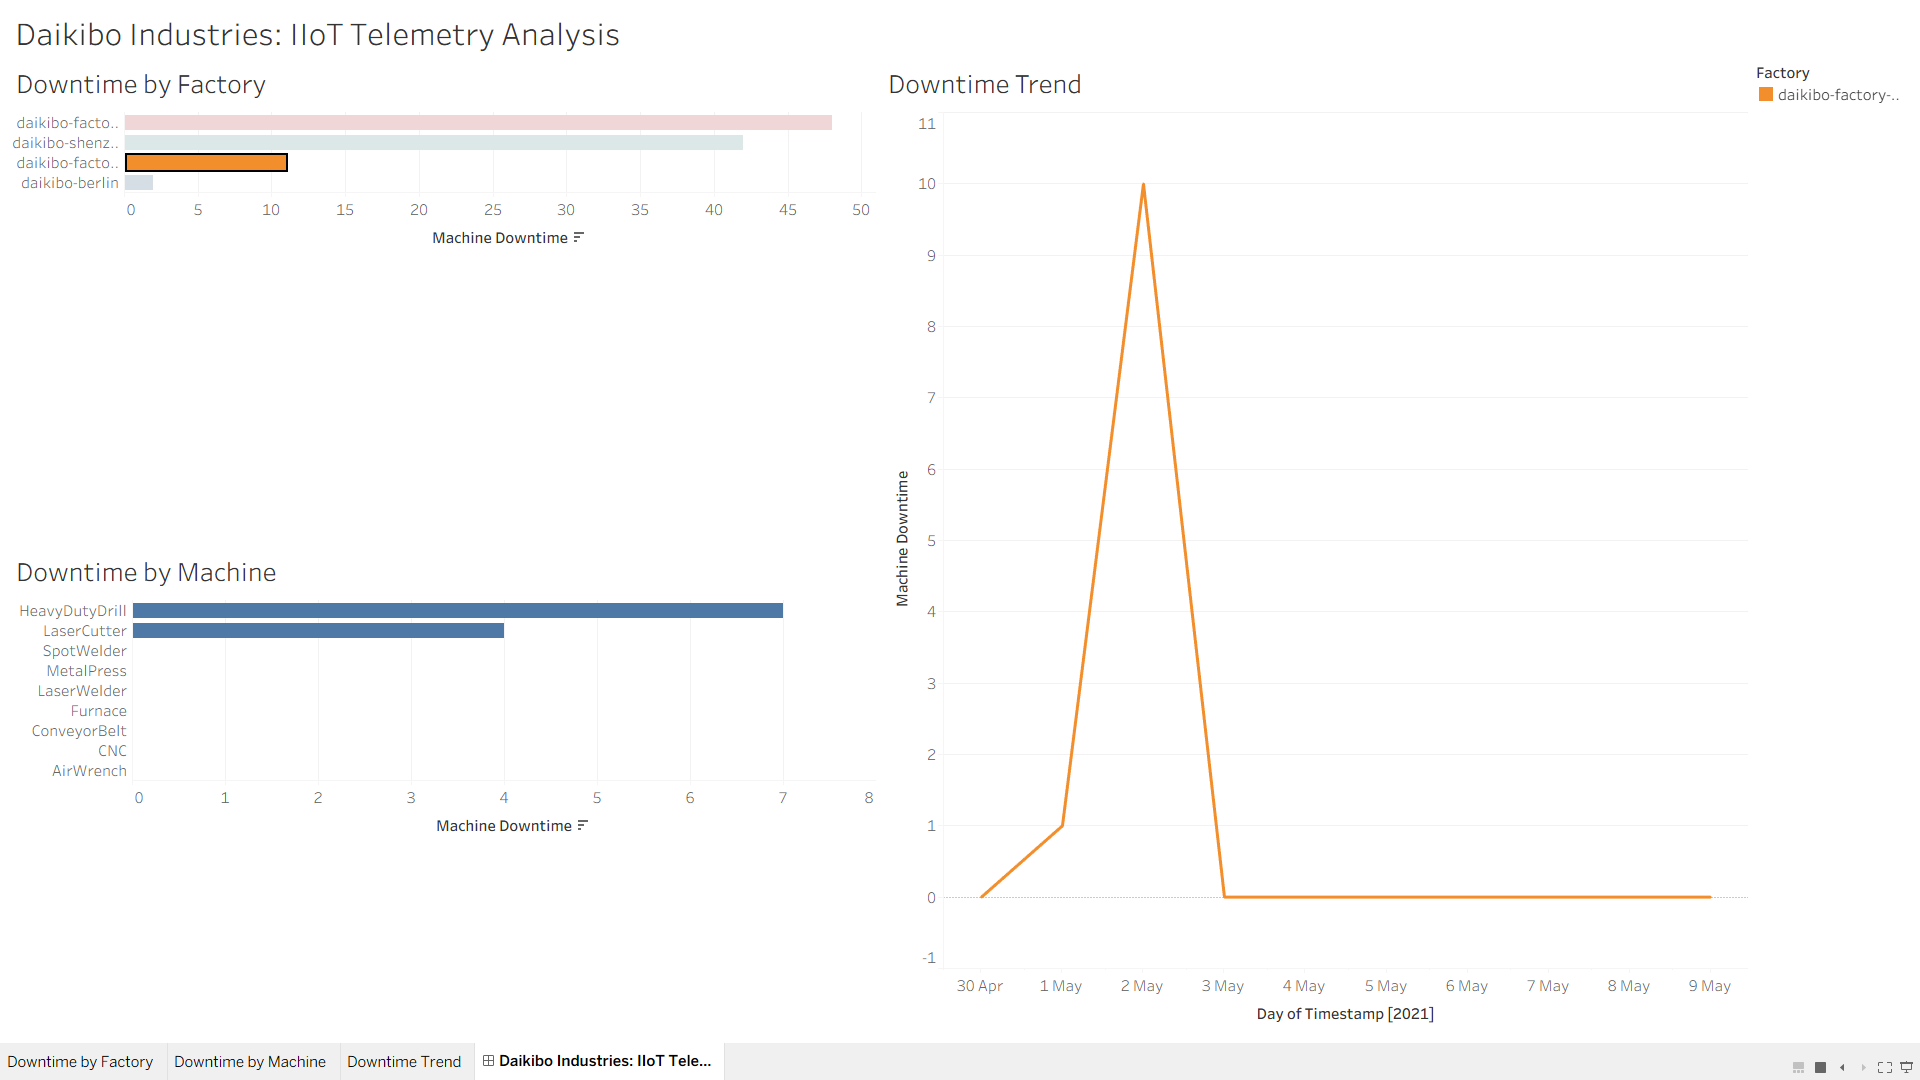

This screenshot's page, from the dashboard's own definition file:
{"tool":"tableau","page":{"name":"Daikibo Industries: IIoT Telemetry Analysis","canvas":[1000,1000],"units":"permille","ordinal":0},"visuals":[{"type":"title","box":[4.8,8.8,990.3,54.9]},{"type":"worksheet","title":"Downtime by Factory","mark":"Automatic","rows":["factory"],"cols":["Calculation_1813951393034240"],"box":[4.8,63.7,440.6,463.7]},{"type":"worksheet","title":"Downtime Trend","mark":"Automatic","rows":["Calculation_1813951393034240"],"cols":["timestamp"],"box":[445.4,63.7,453.2,927.6]},{"type":"legend","title":"Downtime Trend","param":"[federated.0dfa3hv15g2pef1g6h5f31583lfa].[none:factory:nk]","box":[898.6,63.7,96.6,125.1]},{"type":"legend","title":"Downtime by Machine","param":"[federated.0dfa3hv15g2pef1g6h5f31583lfa].[sum:Calculation_1813951393034240:qk]","box":[898.6,188.8,96.6,26.3]},{"type":"worksheet","title":"Downtime by Machine","mark":"Automatic","rows":["deviceType"],"cols":["Calculation_1813951393034240"],"box":[4.8,527.4,440.6,463.8]}]}

Visuals, with their boxes on the dashboard's canvas, which has no fixed pixel size, in thousandths of its width and height (x1, y1, x2, y2). These are canvas units, not pixel positions in the 1920x1080 screenshot, which may show the page scaled, cropped or inside an application window:
title: 5,9,995,64
"Downtime by Factory" worksheet: 5,64,445,527
"Downtime Trend" worksheet: 445,64,899,991
"Downtime Trend" legend: 899,64,995,189
"Downtime by Machine" legend: 899,189,995,215
"Downtime by Machine" worksheet: 5,527,445,991
